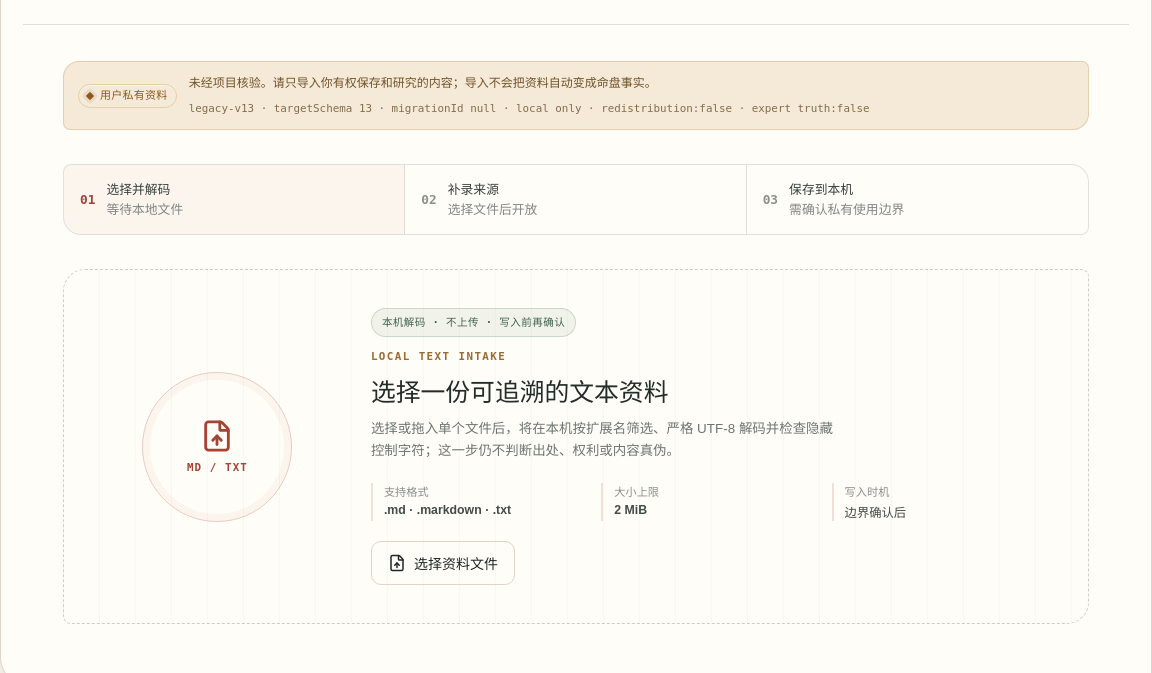
Test: KnowledgeImporter › 拒绝扩展名伪装的非文本资料
(page scrolled)
Click the button "选择资料文件". click: [443, 563]
box: [371, 541, 515, 585]
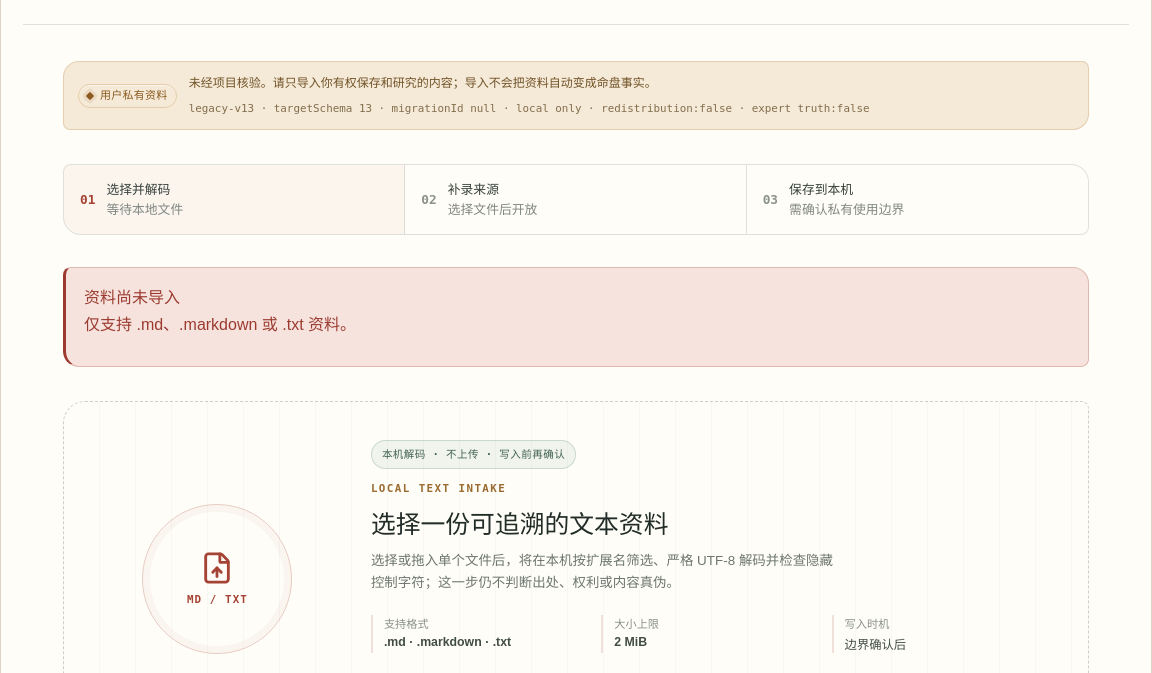
Now the text "仅支持 .md、.markdown 或 .txt 资料。" is shown, box [84, 316, 356, 333]
